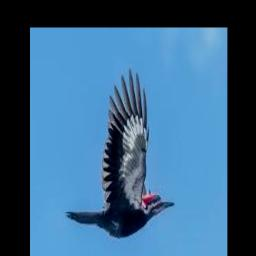Woodpecker: (65, 68, 175, 238)
